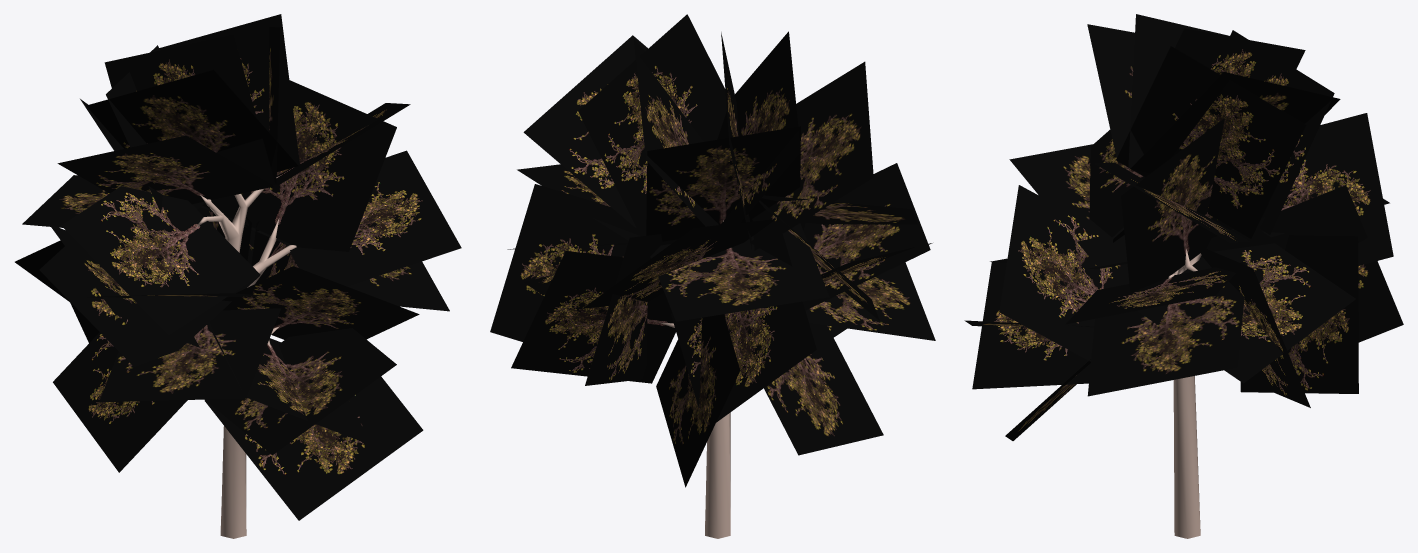
The model's file is tree1.glb.
3 views of the same model, side by side, from view 1: azimuth 30°, elevation 25°; view 2: azimuth 150°, elevation 25°; view 3: azimuth 270°, elevation 25° (orthographic).
Bounding box in the file's own units: 5.46 × 7.08 × 5.58.
2 materials, 1 textured.
